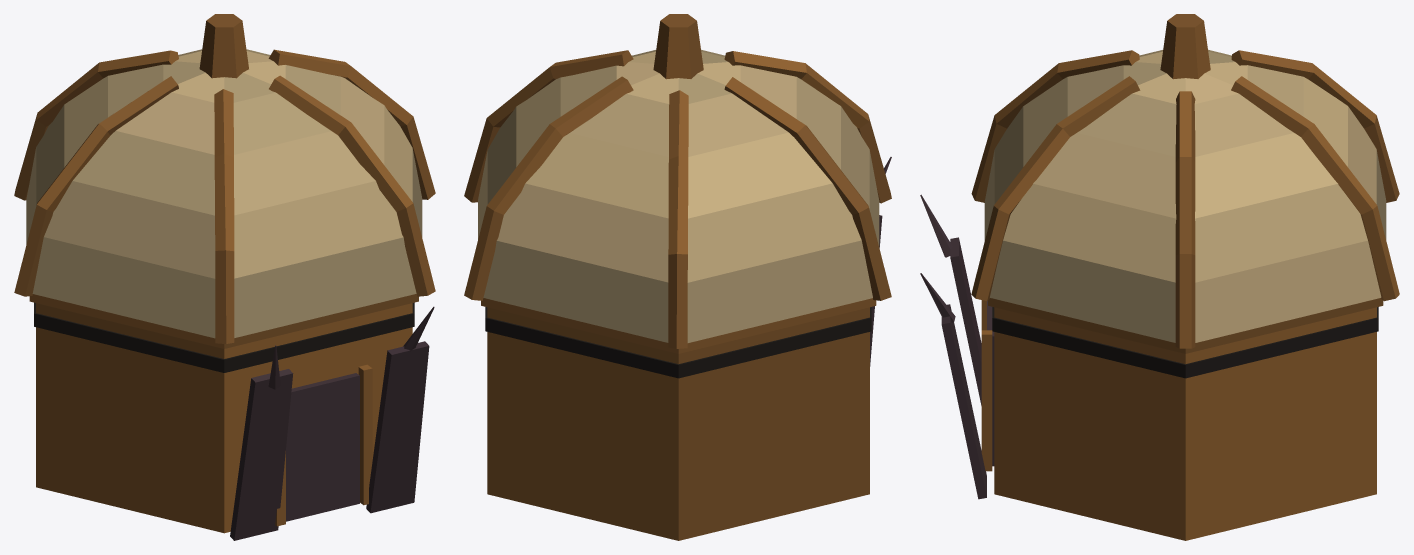
The model's file is walk_hive_row.glb.
The picture shows the model from 3 angles, left to right: view 1: azimuth 30°, elevation 25°; view 2: azimuth 150°, elevation 25°; view 3: azimuth 270°, elevation 25°; orthographic projection.
Parts seen in each view (by area): view 1: walk_hive_row_roof, walk_hive_row; view 2: walk_hive_row_roof, walk_hive_row; view 3: walk_hive_row_roof, walk_hive_row.
Boxes of the visible parts, x1,y1,x2,y2 form: walk_hive_row_roof: (14, 14, 435, 348); walk_hive_row: (34, 302, 434, 540); walk_hive_row_roof: (464, 14, 891, 353); walk_hive_row: (485, 157, 891, 540); walk_hive_row_roof: (971, 14, 1399, 353); walk_hive_row: (920, 194, 1378, 540).
Size of what is drawn, in the model's own units: 6.66 by 6.52 by 6.52.
1 material, 1 textured.
